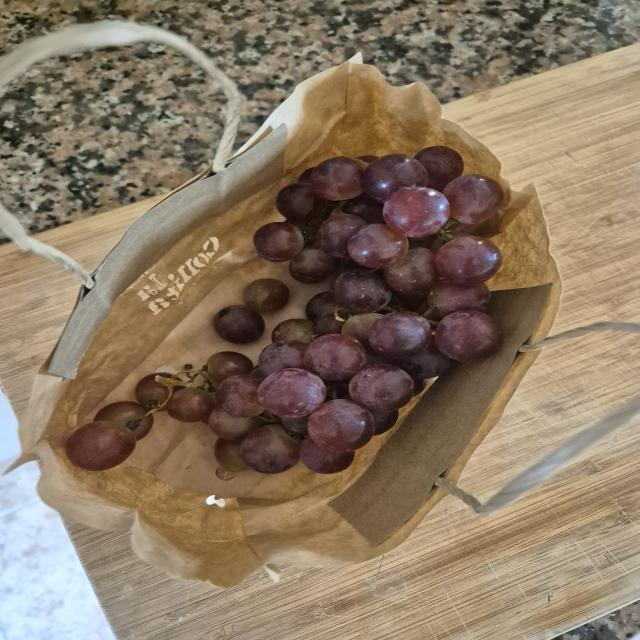racimo uvas: (222, 140, 509, 473)
